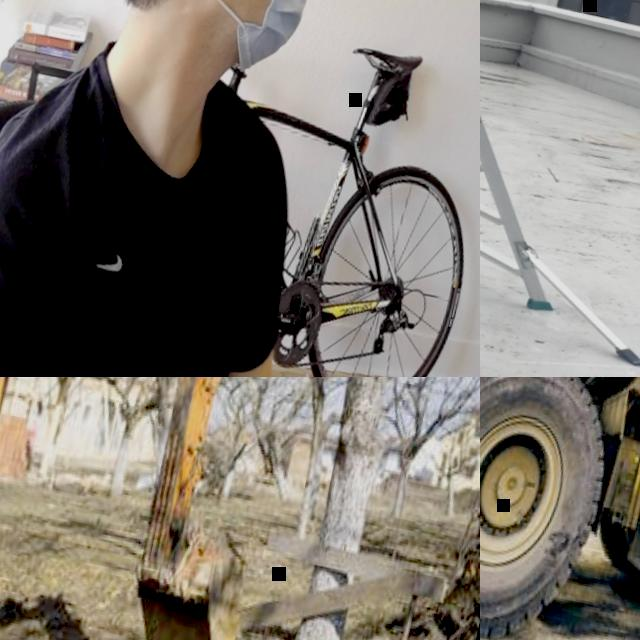machinery: (0, 377, 338, 640), (480, 377, 640, 640)
mask: (196, 0, 325, 88)
no_vest: (0, 52, 288, 377)
person: (0, 0, 420, 377)
